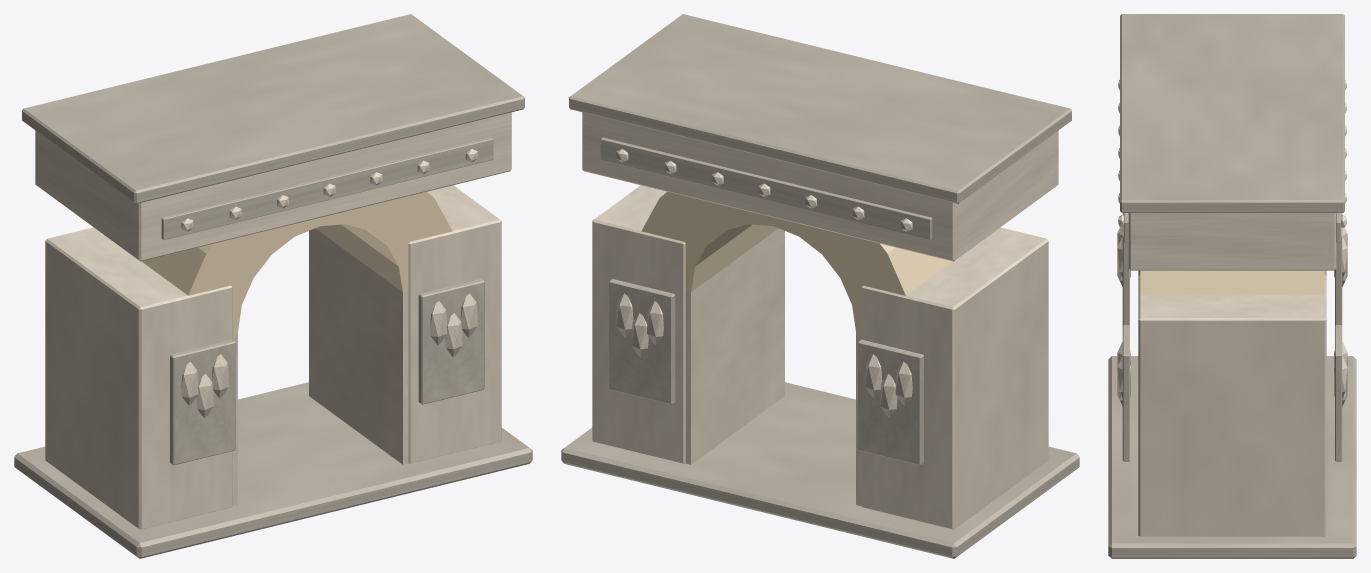
File: arc-de-triomphe.glb
The picture shows the model from 3 angles, left to right: view 1: azimuth 30°, elevation 25°; view 2: azimuth 150°, elevation 25°; view 3: azimuth 270°, elevation 25°; orthographic projection.
Visible parts, largest first — view 1: arc-de-triomphe; view 2: arc-de-triomphe; view 3: arc-de-triomphe.
Part boxes in pixels (x1,y1,x2,y2): arc-de-triomphe: [14, 14, 532, 558]; arc-de-triomphe: [561, 14, 1079, 558]; arc-de-triomphe: [1108, 14, 1356, 558].
Size of the model in its own units: 7.8 by 6.86 by 4.3.
1 material, 1 textured.
